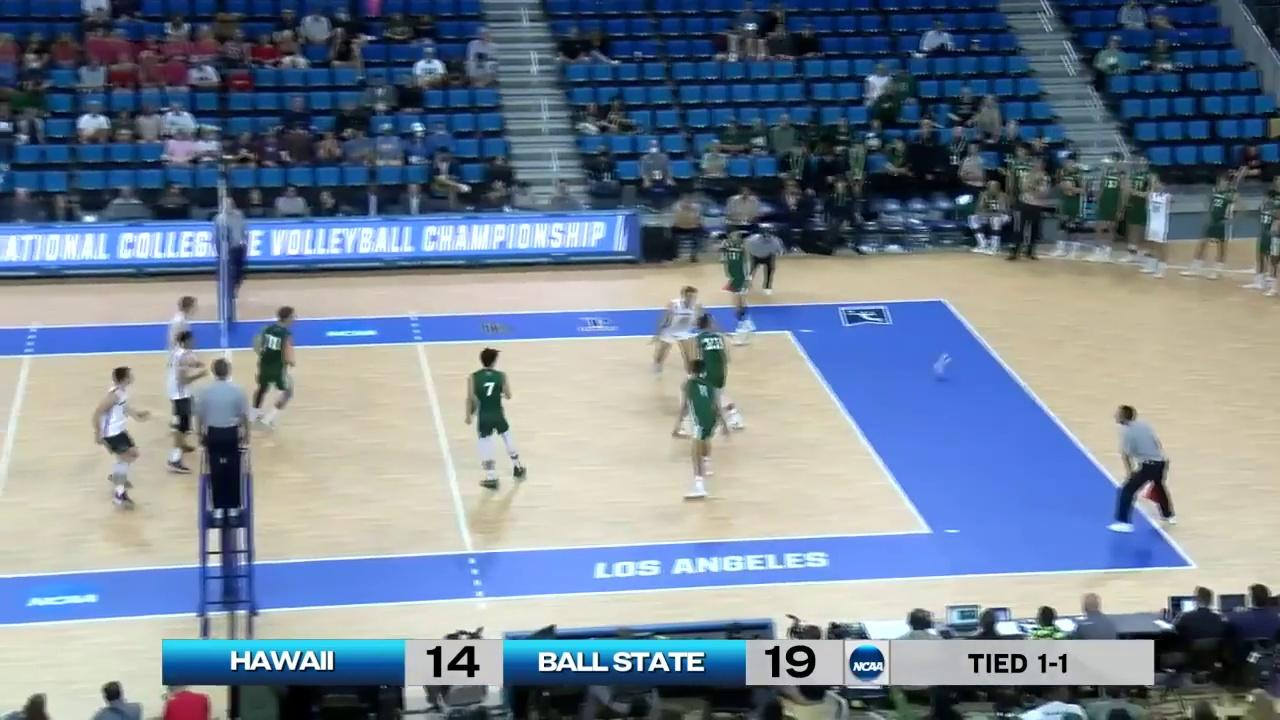player: (460, 347, 527, 492), (196, 358, 252, 519), (94, 367, 148, 509), (686, 312, 742, 442), (158, 292, 202, 452), (677, 355, 724, 501), (650, 285, 714, 387), (161, 332, 208, 470), (251, 307, 298, 431), (719, 233, 758, 344), (728, 229, 785, 298)
refree: (1110, 405, 1180, 532), (214, 198, 249, 304)
